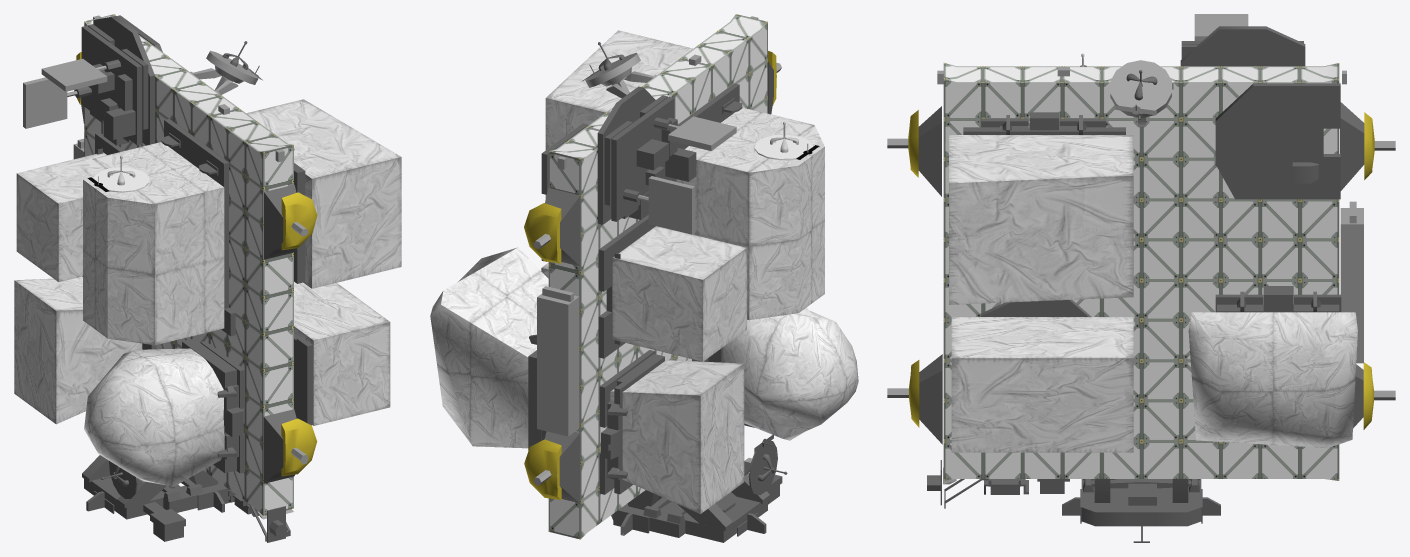
Rendered from ELC2.FBX.
The picture shows the model from 3 angles, left to right: view 1: azimuth 30°, elevation 25°; view 2: azimuth 150°, elevation 25°; view 3: azimuth 270°, elevation 25°; orthographic projection. The views are drawn at different scales.
Parts seen in each view (by area): view 1: ELC2; view 2: ELC2; view 3: ELC2.
Part boxes in pixels (x1,y1,x2,y2): ELC2: (14, 14, 401, 542); ELC2: (430, 14, 858, 542); ELC2: (887, 14, 1395, 542).
Size of the model in its own units: 3.69 by 5.56 by 5.3.
8 materials, 2 textured.
